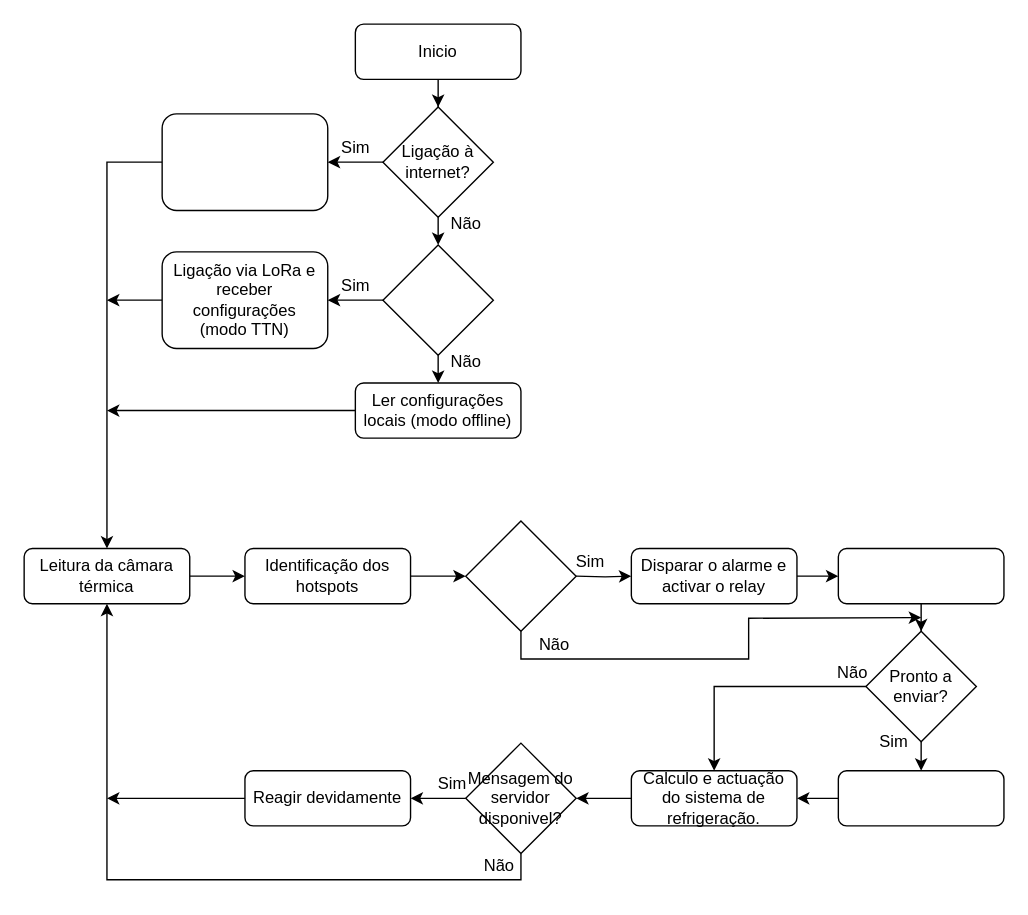
The diagram is 1028 pixels wide and 915 high, and some of its shapes have lost their labels. Here are the shapes that lost their labels. From the top down, the centre of each, then its label:
At [244,161]: "Ligação directa à base de dados e receber configurações (modo Internet)".
At [437,299]: "Ligação à TTN?".
At [520,575]: "Algum hotspot acima do seguro?".
At [920,575]: "Envio de um aviso para o servidor".
At [920,797]: "Envio da imagem térmica para o servidor".
